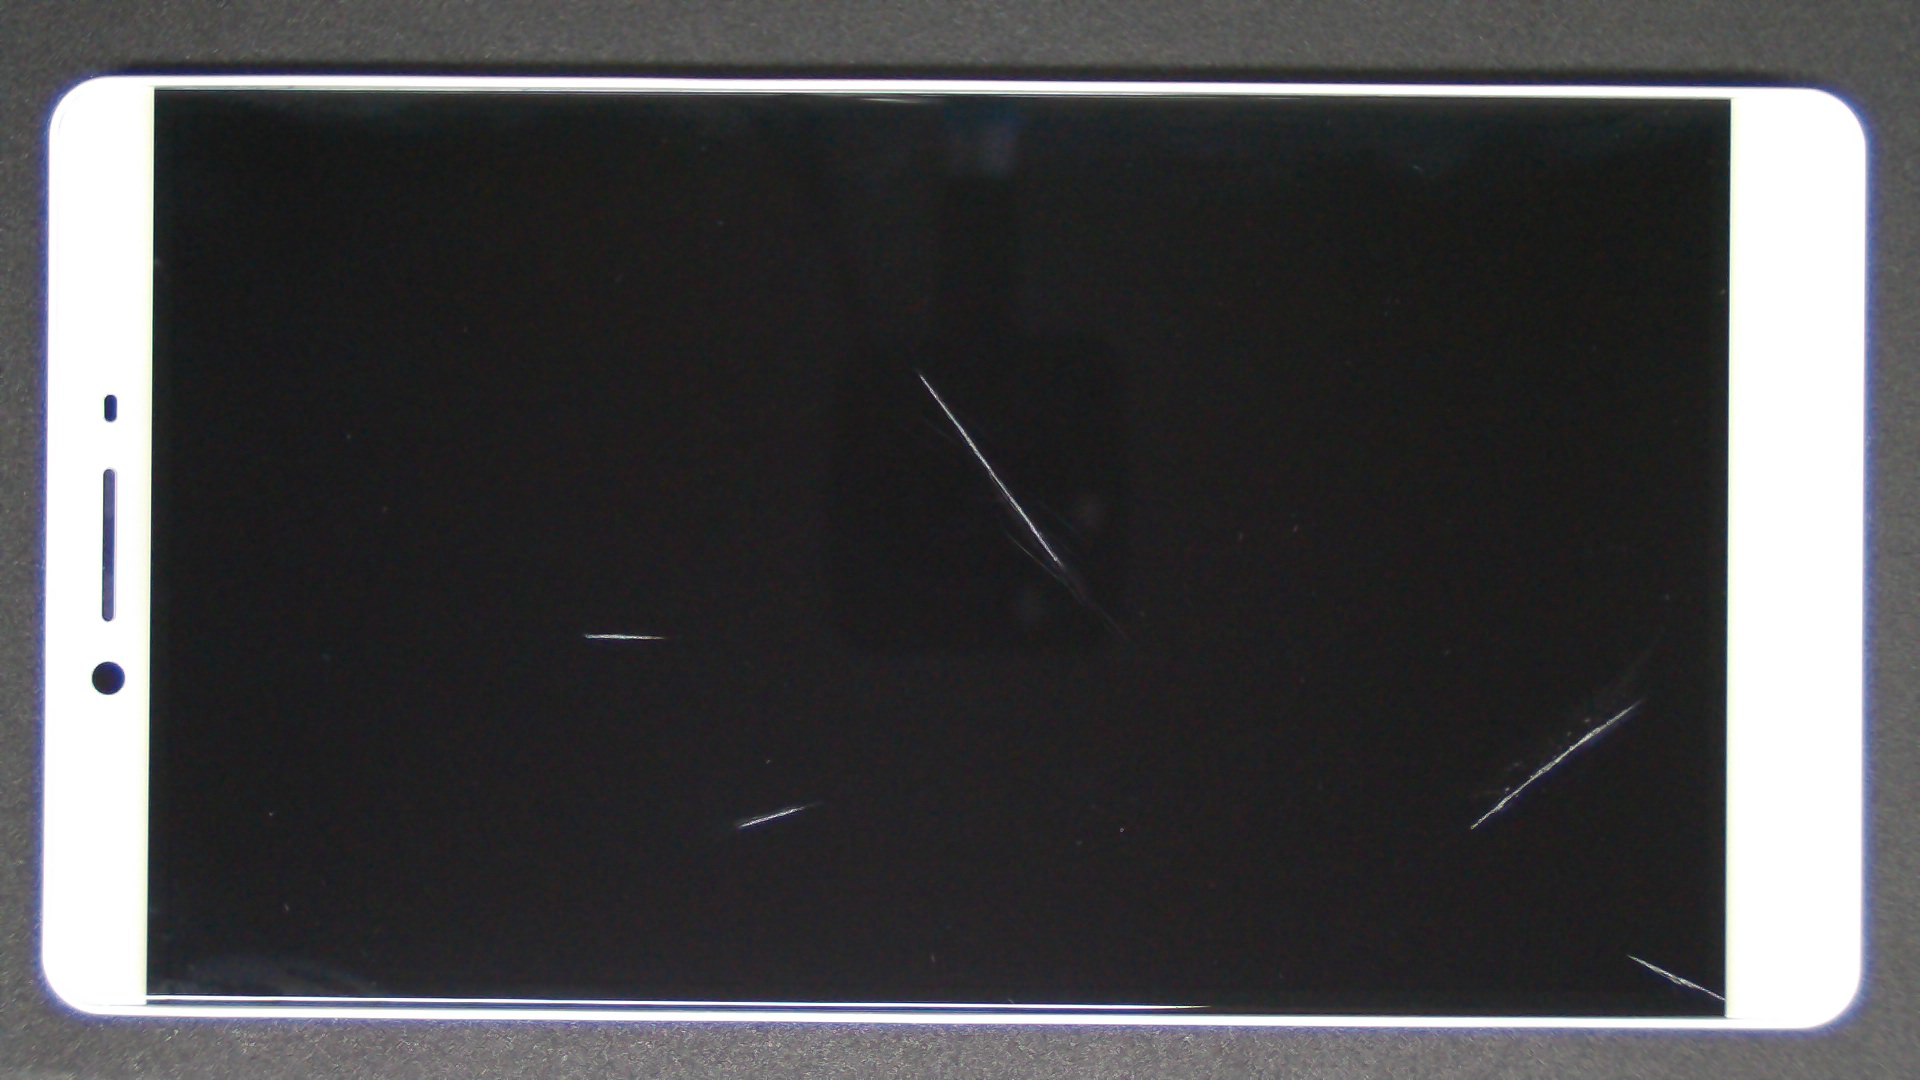defect: (918, 372, 1064, 568), (1469, 699, 1644, 829), (1625, 953, 1724, 1000), (738, 804, 806, 829), (584, 633, 665, 640)
